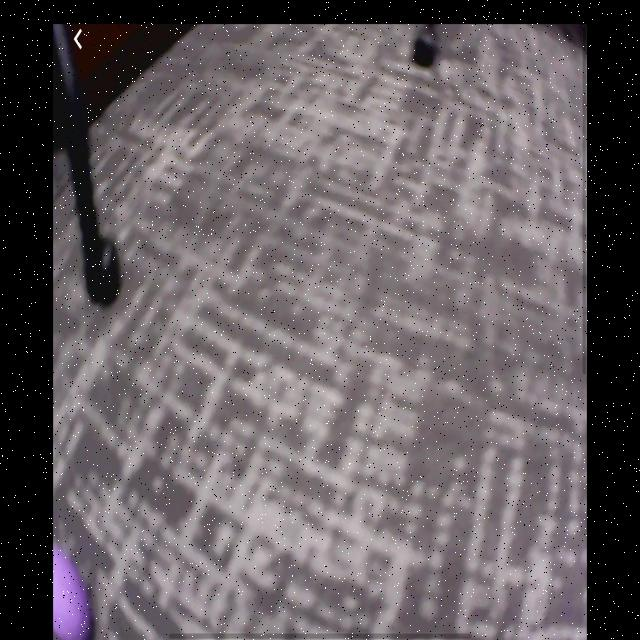ball: (54, 543, 89, 638)
